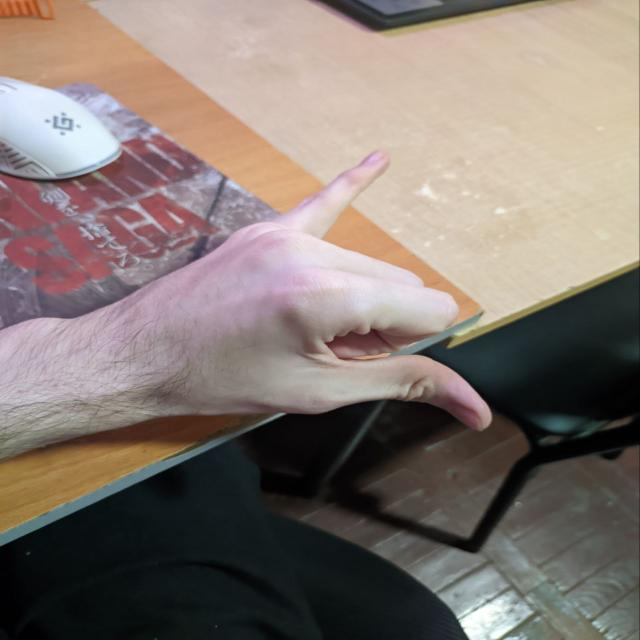u: (180, 132, 528, 436)
